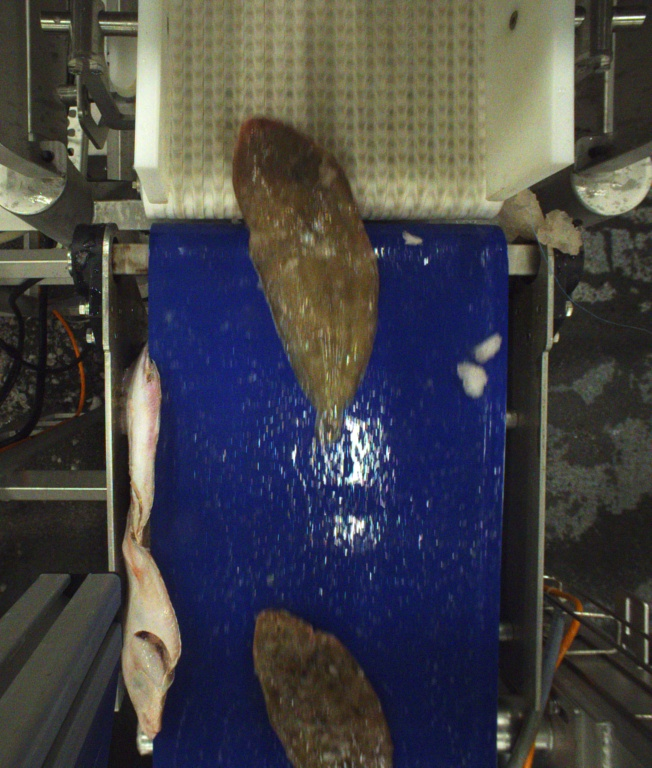SOL: (229, 116, 379, 442)
